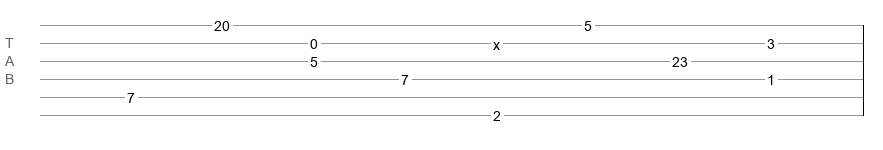0: (310, 36, 318, 46)
1: (767, 72, 775, 82)
2: (493, 108, 501, 118)
20: (214, 18, 230, 28)
23: (672, 54, 688, 64)
3: (767, 36, 775, 46)
5: (310, 54, 318, 64), (584, 18, 592, 28)
7: (127, 90, 135, 100), (401, 72, 409, 82)
x: (493, 37, 500, 45)
